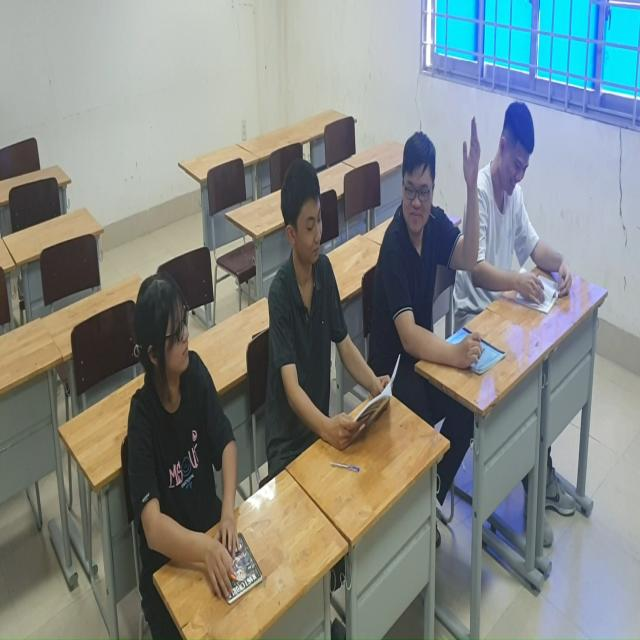raise_hand: (381, 122, 485, 329)
read: (122, 244, 267, 611), (264, 155, 393, 465), (474, 100, 576, 321)
